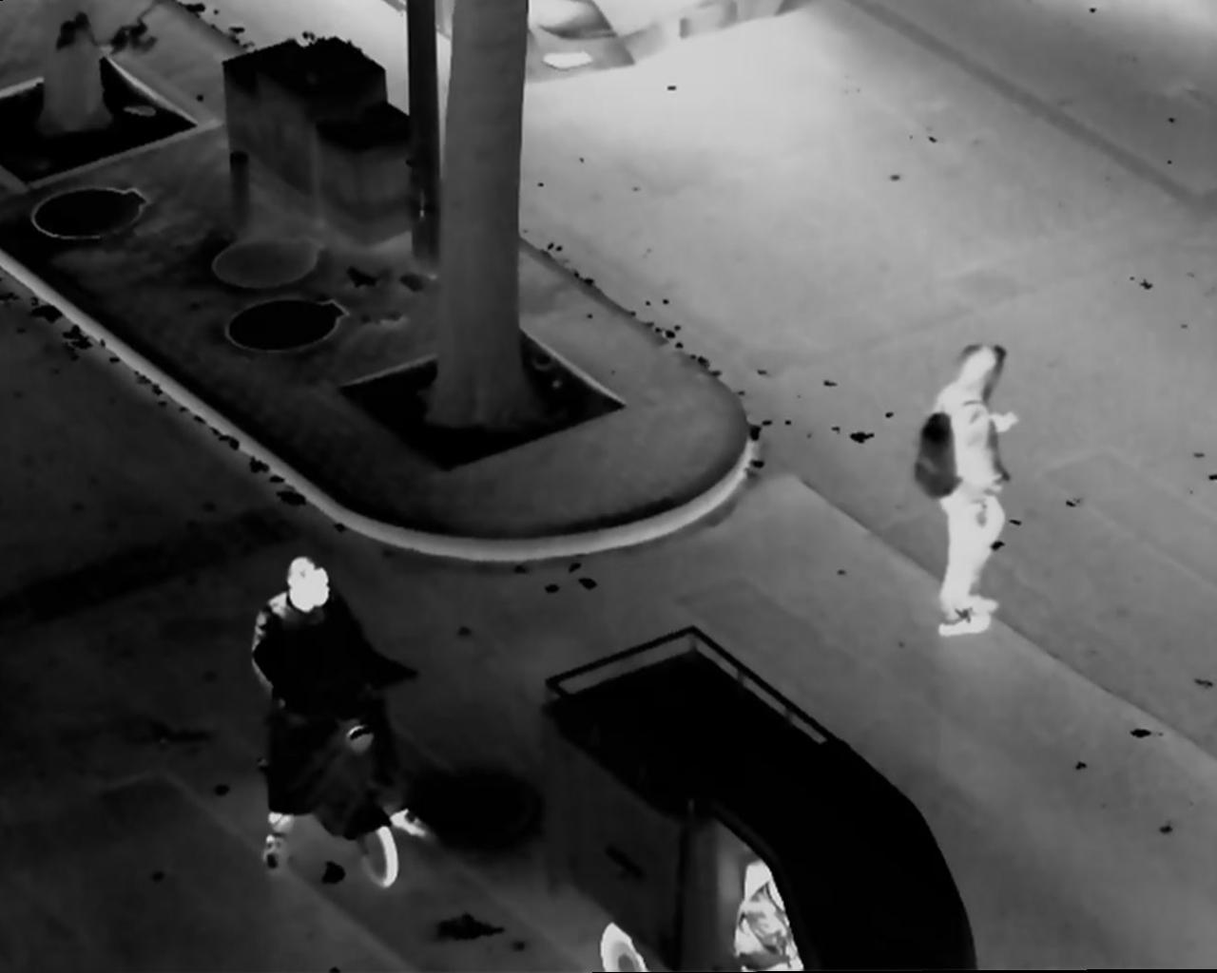person: (241, 544, 443, 868), (920, 343, 1015, 647), (729, 861, 812, 973)
